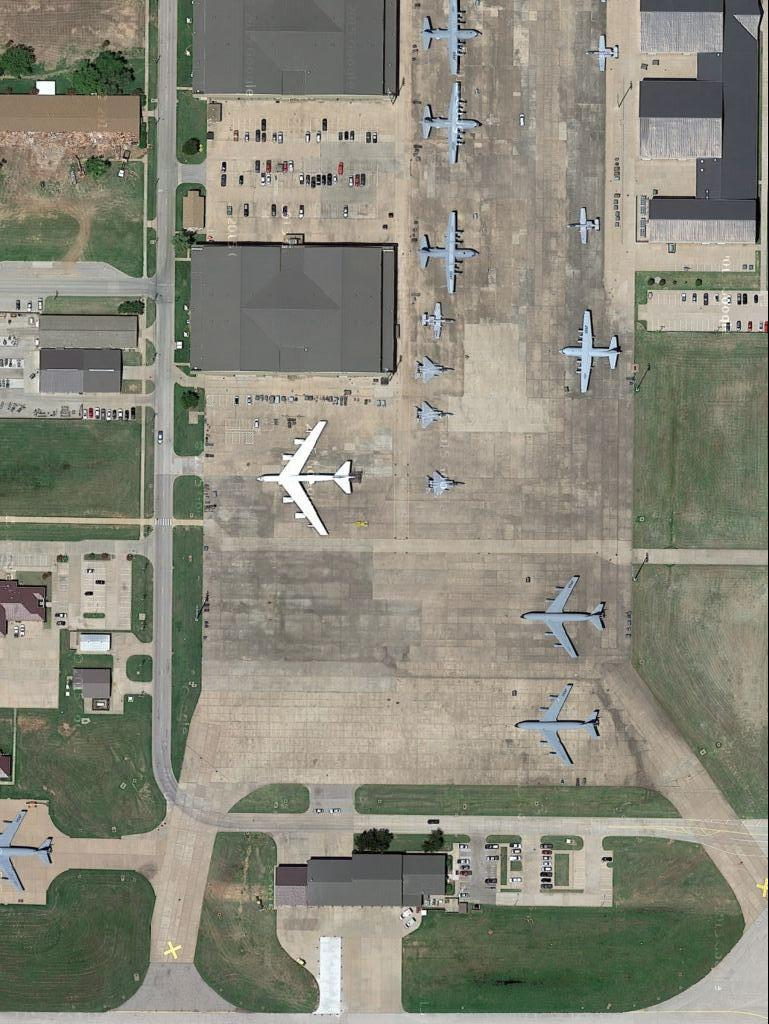A-10: (566, 201, 602, 251), (418, 297, 454, 342), (586, 31, 621, 76)
B-52: (254, 416, 367, 539)
C-130: (559, 307, 626, 399), (419, 79, 486, 167), (418, 208, 479, 300), (420, 1, 483, 81)
F-15: (413, 352, 457, 387), (424, 468, 469, 501), (414, 399, 456, 430)
KC-135: (515, 572, 611, 666), (511, 682, 602, 769)
